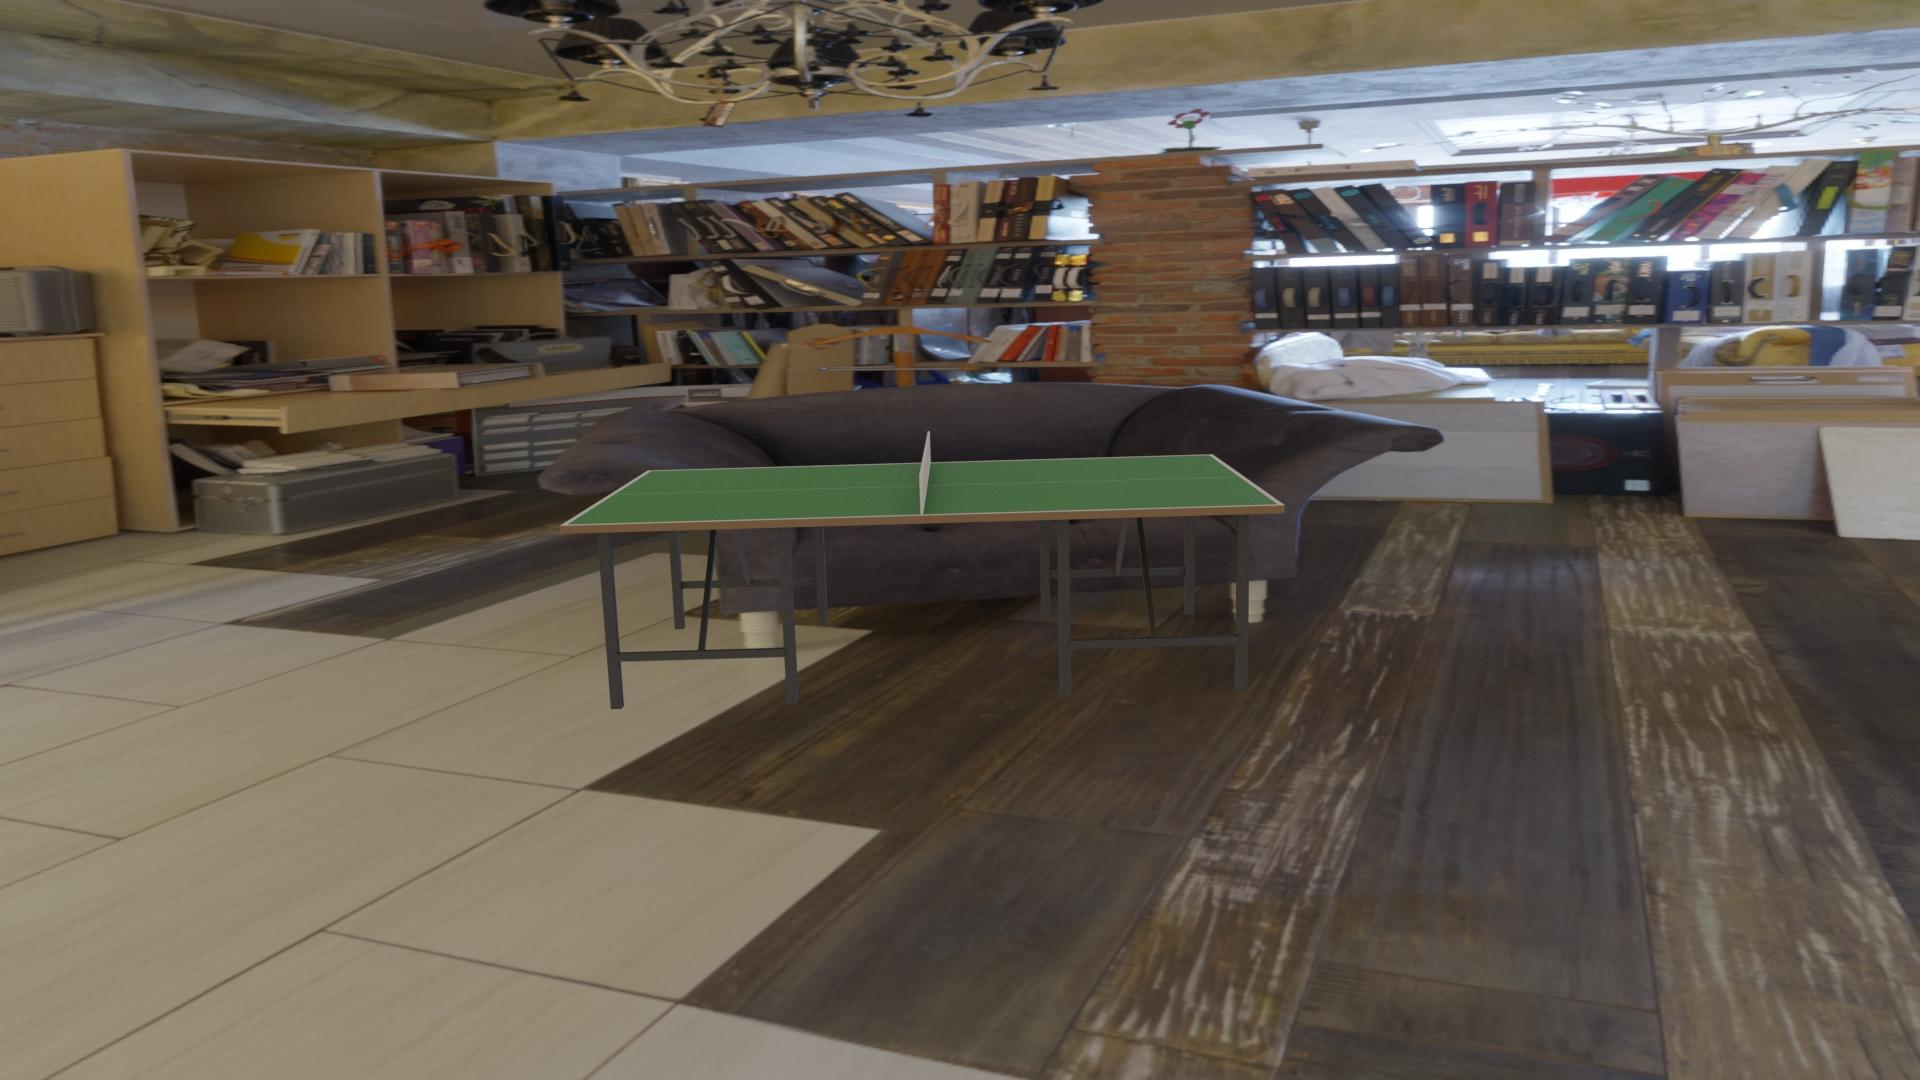table: (567, 455, 1278, 525)
